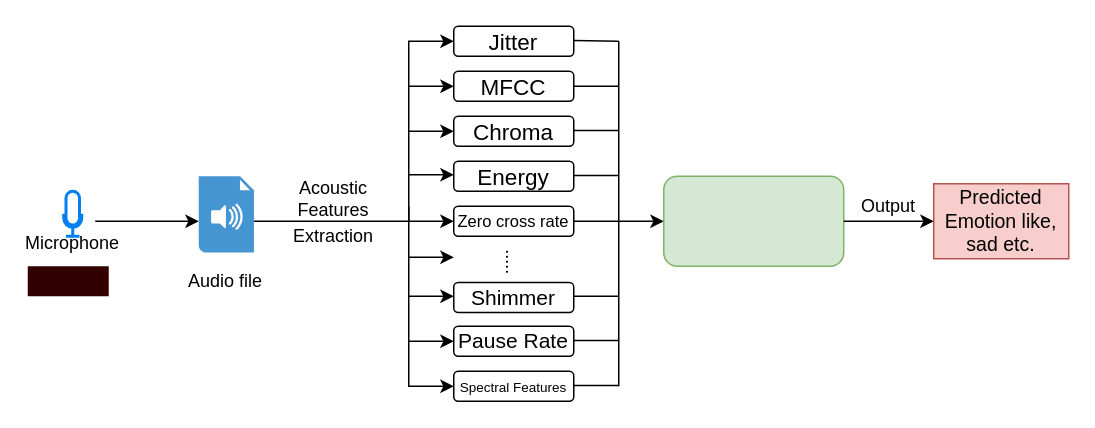
Image size: 1095x428. Some labels were removed from this diagram. Each missing label, with the centre of its shape:
"Random Forest Classifier" goes at (753,220).
"Sensors" goes at (67,281).
